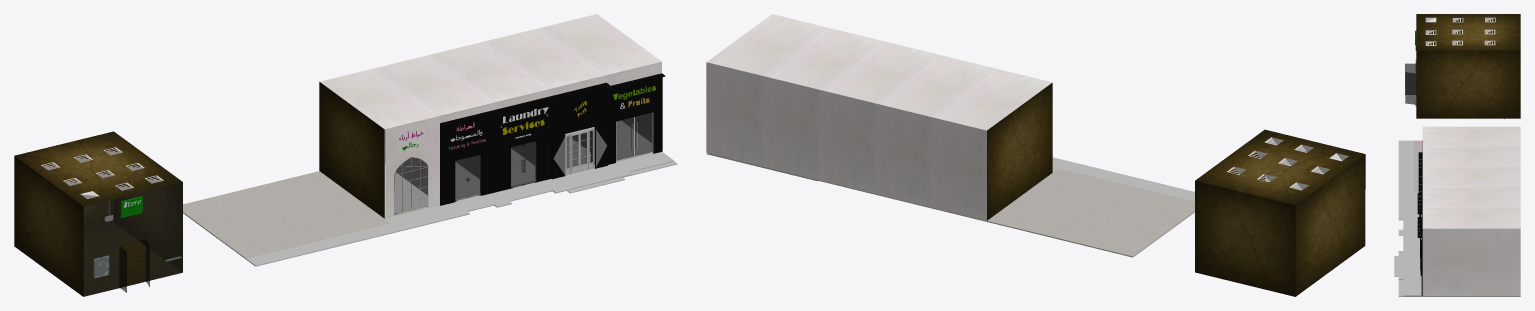
The picture shows the model from 3 angles, left to right: view 1: azimuth 30°, elevation 25°; view 2: azimuth 150°, elevation 25°; view 3: azimuth 270°, elevation 25°; orthographic projection. The views are drawn at different scales.
Visible parts, largest first — view 1: SM_TV_T_Security_TV_0, pPlane2, pPlane4, Shop, Shop3, Shop2, Shop1, pCube5, polySurface13, polySurface12, polySurface10, pCube42 (+10 smaller); view 2: SM_TV_T_Security_TV_0, pPlane2, pPlane4, Shop2, Shop, Shop1, Shop3, pCube42, pCube45, pCube5; view 3: SM_TV_T_Security_TV_0, Shop, Shop2, Shop1, Shop3, pPlane2, pCube5, pCube42, pCube45, polySurface132, polySurface115, pPlane4 (+5 smaller).
Boxes of the visible parts, box(x1,y1,x2,y2) form: SM_TV_T_Security_TV_0: box(14, 131, 182, 296); pPlane2: box(319, 68, 440, 218); pPlane4: box(183, 171, 389, 258); Shop: box(541, 14, 661, 162); Shop3: box(375, 54, 495, 201); Shop2: box(431, 41, 550, 187); Shop1: box(486, 27, 606, 167); pCube5: box(386, 152, 673, 230); polySurface13: box(440, 109, 497, 205); polySurface12: box(496, 96, 553, 192); polySurface10: box(607, 73, 665, 164); pCube42: box(183, 207, 469, 266); SM_TV_T_Security_TV_0: box(1195, 129, 1365, 296); pPlane2: box(930, 68, 1052, 220); pPlane4: box(987, 168, 1194, 256); Shop2: box(818, 41, 939, 193); Shop: box(706, 14, 827, 166); Shop1: box(762, 27, 883, 179); Shop3: box(874, 55, 995, 207); pCube42: box(925, 157, 1194, 257); pCube45: box(1227, 137, 1348, 190); pCube5: box(707, 153, 1068, 208); SM_TV_T_Security_TV_0: box(1416, 14, 1520, 118); Shop: box(1422, 208, 1520, 295); Shop2: box(1422, 167, 1520, 187); Shop1: box(1422, 187, 1520, 207); Shop3: box(1422, 147, 1520, 167); pPlane2: box(1422, 126, 1520, 146); pCube5: box(1398, 194, 1520, 296); pCube42: box(1398, 140, 1420, 219); pCube45: box(1425, 17, 1495, 45); polySurface132: box(1405, 72, 1416, 104); polySurface115: box(1405, 63, 1416, 94); pPlane4: box(1414, 140, 1422, 193).
Bounding box in the file's own units: 70.22 × 10.55 × 17.52.
